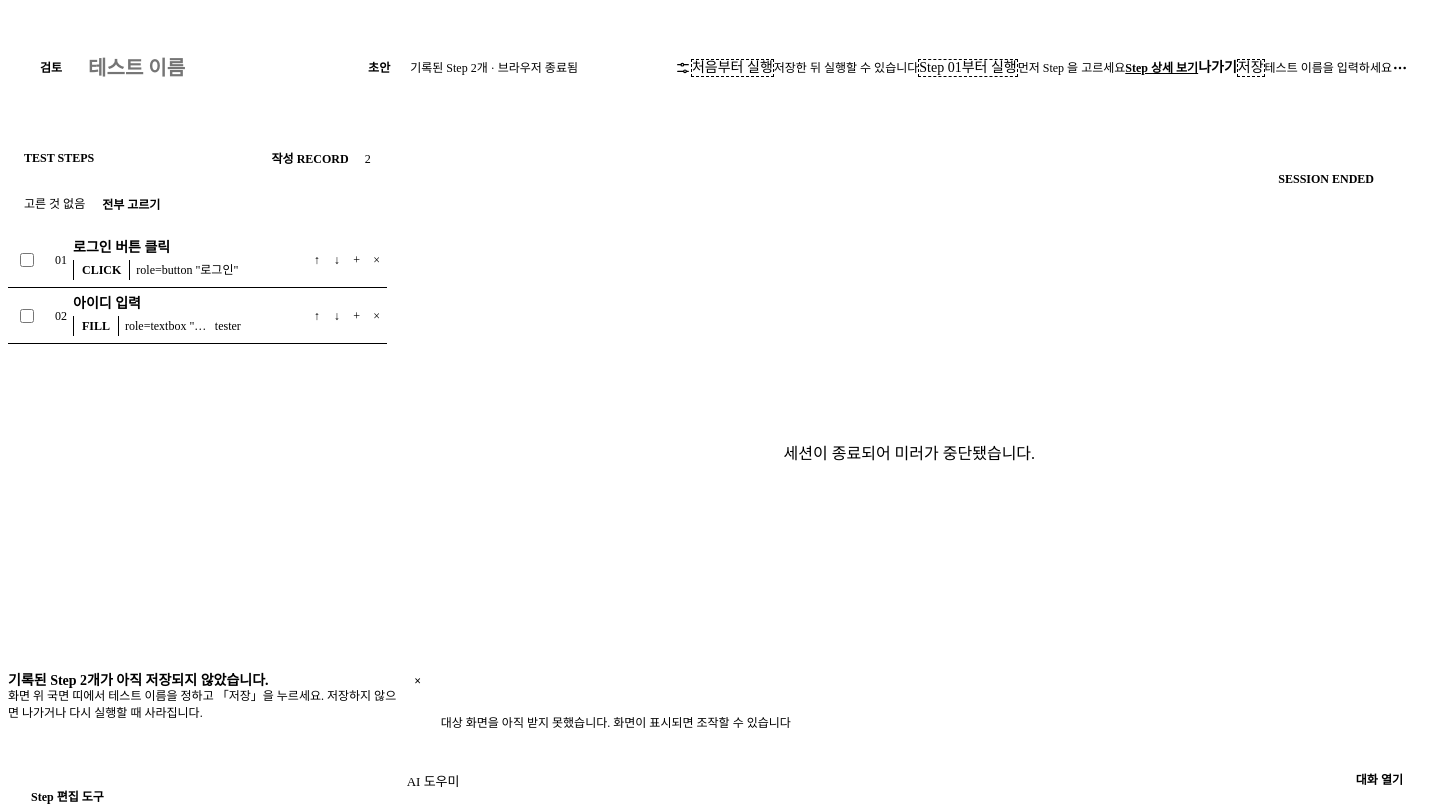
Test case: UC-011-5 — 확인 대화상자의 이름칸은 조건부다 › 이름이 없는 테스트: 나가기 확인에 이름칸이 있다
Click the button "나가기" at [1217, 68], box [1198,60,1237,76]
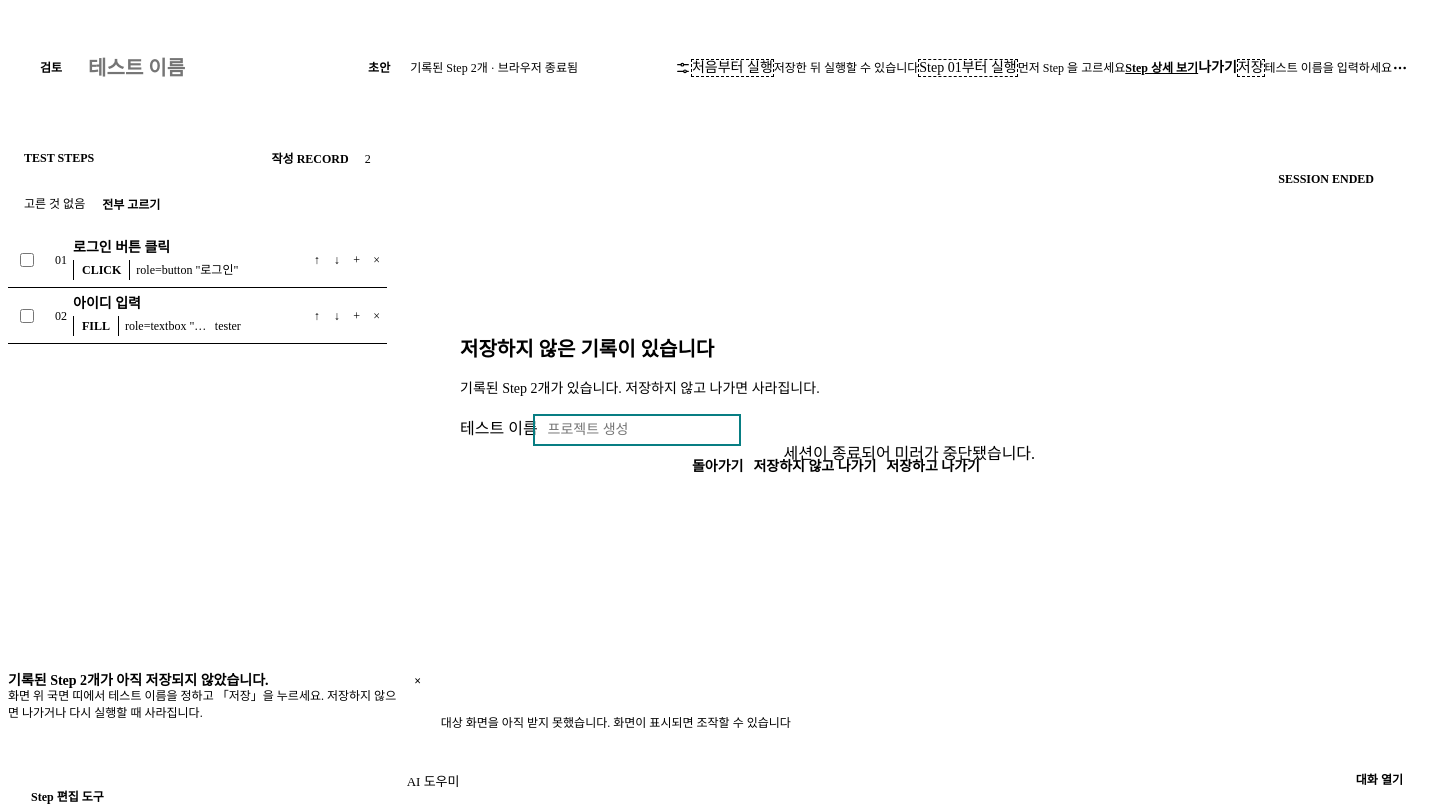
Expected: the heading "저장하지 않은 기록이 있습니다" is shown, [460,338,714,360]
Expected: the field with id "leave-save-name" is shown, [538,419,736,441]
